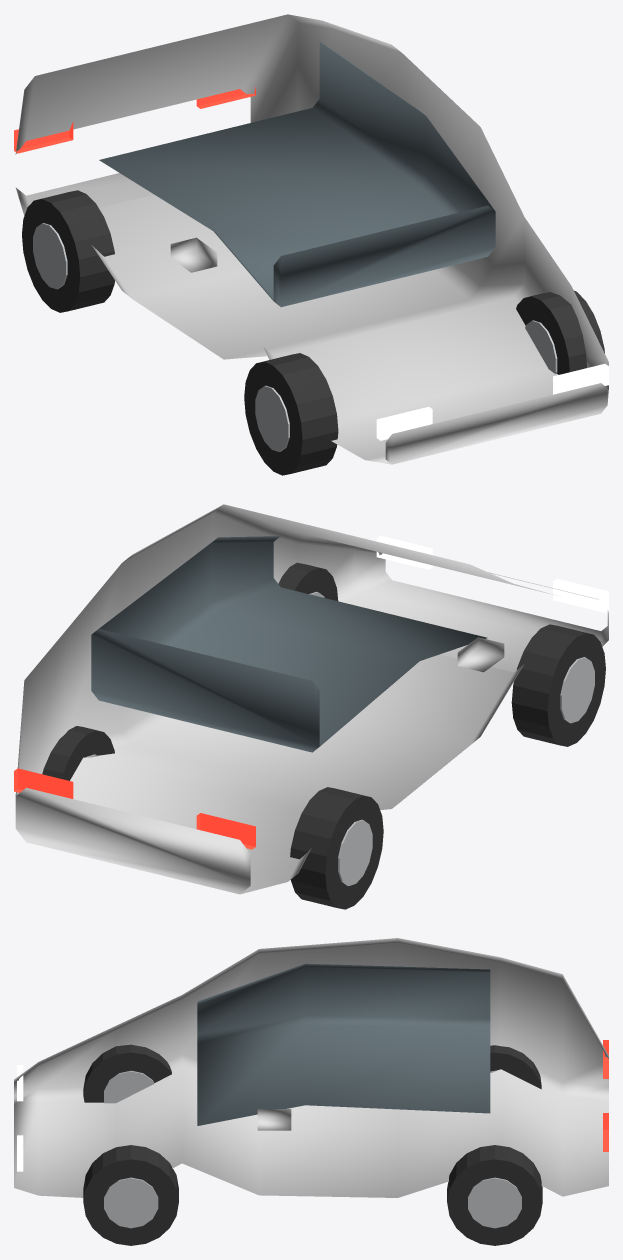
File: traffic-hatch.glb
The picture shows the model from 3 angles, top to bottom: view 1: azimuth 30°, elevation 25°; view 2: azimuth 150°, elevation 25°; view 3: azimuth 270°, elevation 25°; orthographic projection. The views are drawn at different scales.
Visible parts, largest first — view 1: body, glass, wheel (×3), wheel-rim (×3), headlamp, taillight; view 2: body, glass, wheel (×4), wheel-rim (×2), taillight, headlamp; view 3: body, glass, wheel (×4), wheel-rim (×3), headlamp, taillight.
Part boxes in pixels (box(x1,y1,x2,y2)): body: box(15, 14, 608, 464); glass: box(99, 37, 495, 307); wheel (×3): box(22, 190, 604, 475); wheel-rim (×3): box(33, 223, 557, 451); headlamp: box(376, 364, 608, 440); taillight: box(14, 87, 255, 153); body: box(15, 504, 608, 894); glass: box(91, 536, 487, 752); wheel (×4): box(42, 562, 605, 909); wheel-rim (×2): box(338, 657, 594, 885); taillight: box(14, 768, 255, 849); headlamp: box(376, 535, 608, 612); body: box(14, 938, 608, 1197); glass: box(197, 963, 490, 1125); wheel (×4): box(83, 1044, 542, 1245); wheel-rim (×3): box(104, 1070, 521, 1228); headlamp: box(17, 1065, 23, 1171); taillight: box(603, 1040, 608, 1151).
Bounding box in the file's own units: 1.92 × 1.4 × 3.86.
